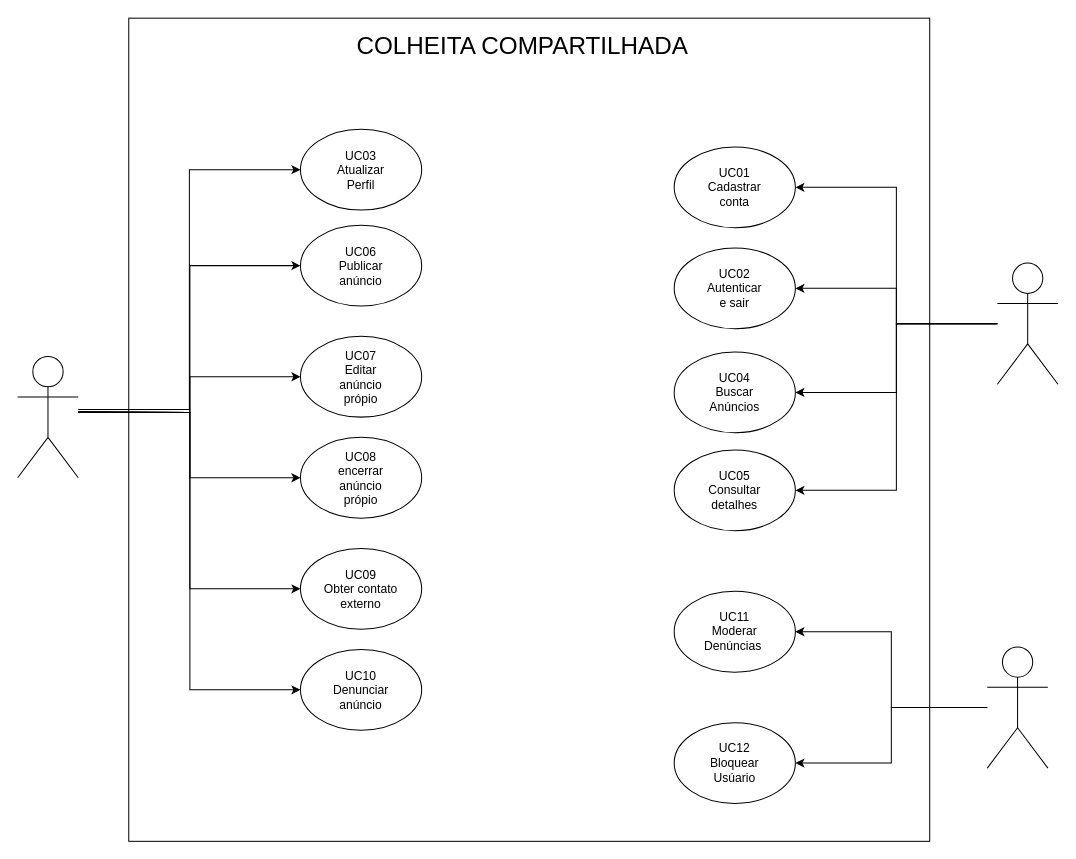
The diagram is 1076 pixels wide and 859 high, and some of its shapes have lost their labels. The shapes that lost their labels are listed below. From the top down, each one's centre as x and y in pixels, then its label:
At point 1027,323: "Visitante".
At point 47,417: "Usuário".
At point 1017,707: "Administrador".
